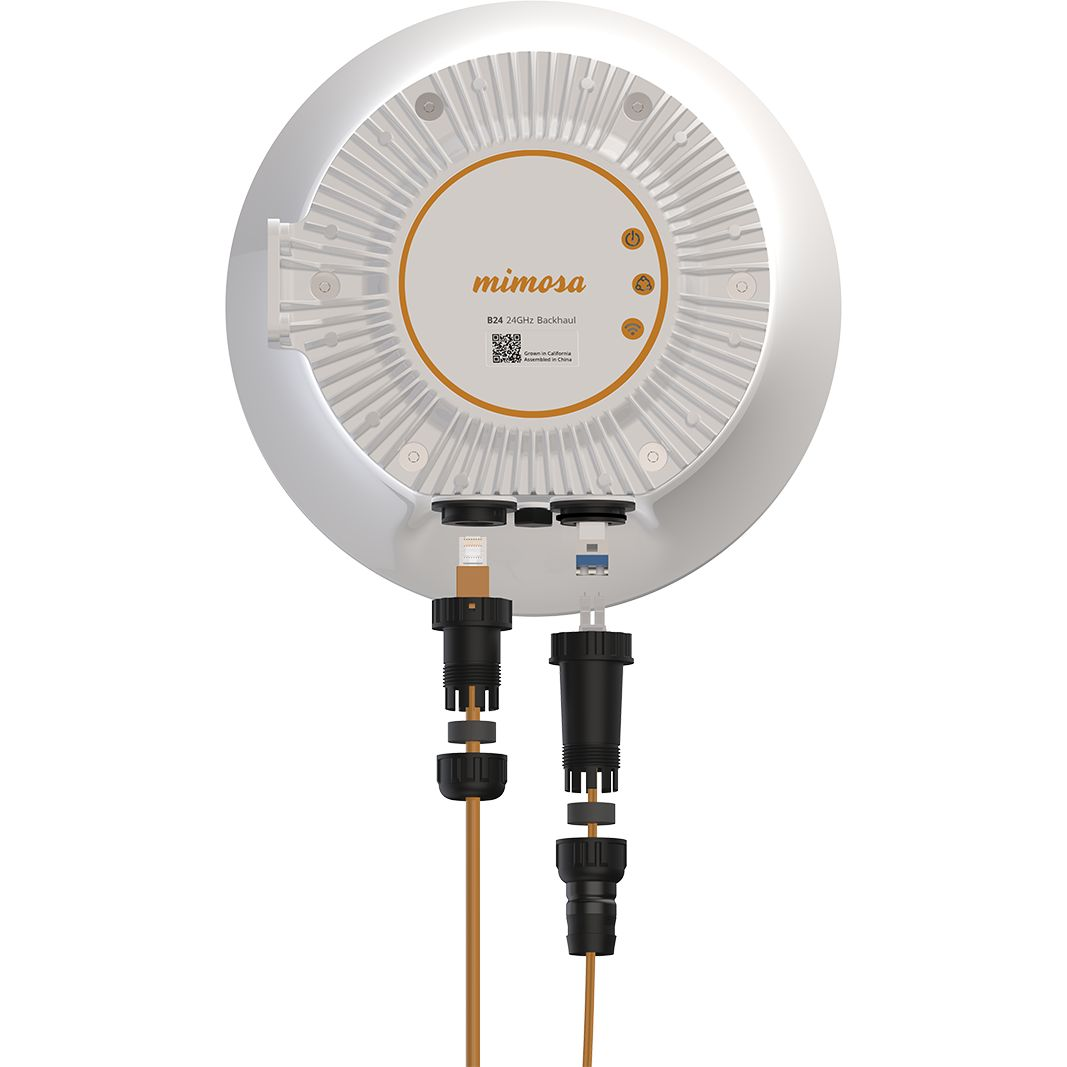ba: (139, 1, 921, 770)
